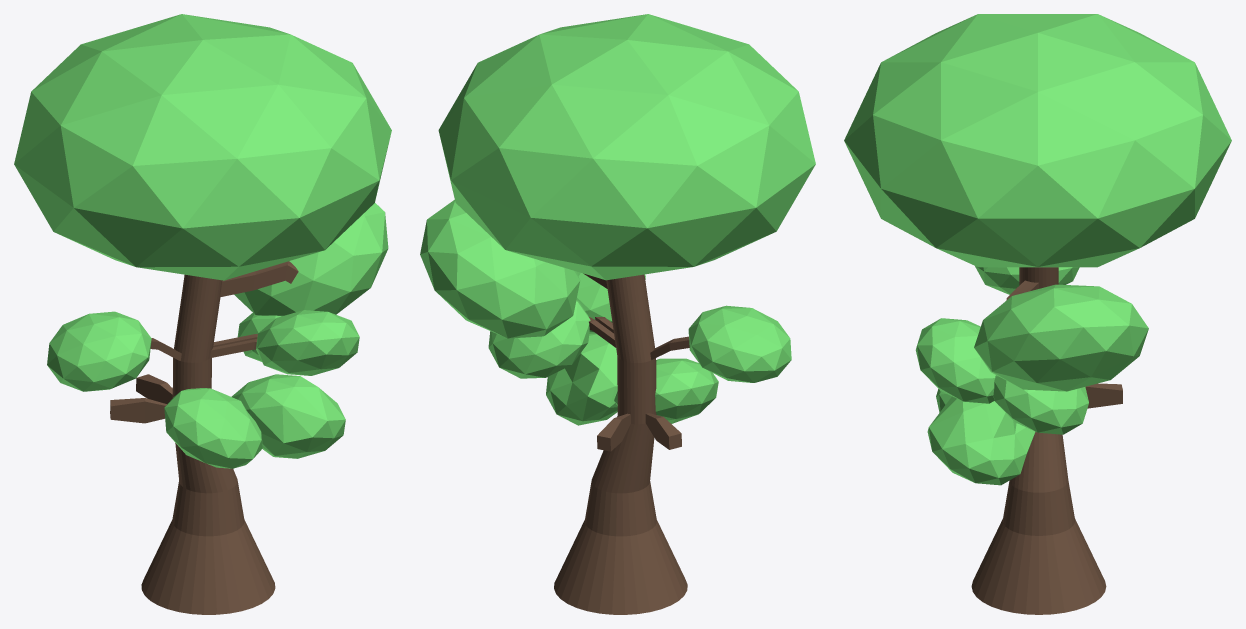
The model's file is Tree1.gltf.
The picture shows the model from 3 angles, left to right: view 1: azimuth 30°, elevation 25°; view 2: azimuth 150°, elevation 25°; view 3: azimuth 270°, elevation 25°; orthographic projection.
Parts seen in each view (by area): view 1: Cylinder; view 2: Cylinder; view 3: Cylinder.
Boxes of the visible parts, left/top/right/bottom form: Cylinder: left=14, top=14, right=391, bottom=614; Cylinder: left=420, top=14, right=815, bottom=614; Cylinder: left=844, top=14, right=1231, bottom=614.
Size of the model in its own units: 10.94 by 16.72 by 10.68.
